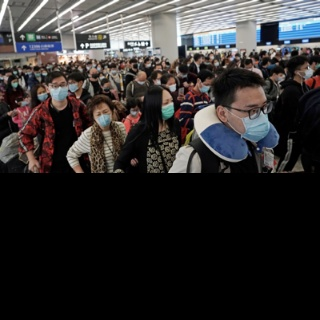with_mask: (228, 99, 270, 142), (49, 81, 68, 102), (93, 108, 112, 127), (161, 96, 175, 120), (301, 64, 314, 80), (199, 82, 212, 93), (37, 89, 48, 101), (68, 81, 79, 93), (167, 81, 177, 92), (130, 108, 140, 116), (91, 71, 99, 80), (276, 74, 284, 83), (103, 85, 112, 92), (137, 79, 146, 86), (156, 76, 162, 86), (181, 72, 188, 79), (12, 80, 18, 88), (34, 71, 41, 77), (132, 63, 139, 69), (21, 100, 27, 107), (146, 62, 152, 68), (42, 71, 48, 76), (112, 68, 117, 74), (215, 61, 220, 67), (100, 76, 105, 81), (211, 55, 216, 60), (18, 69, 23, 74), (28, 70, 32, 75), (13, 71, 17, 75)
